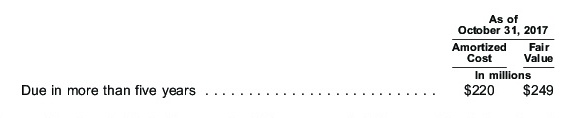table: (0, 0, 577, 118)
